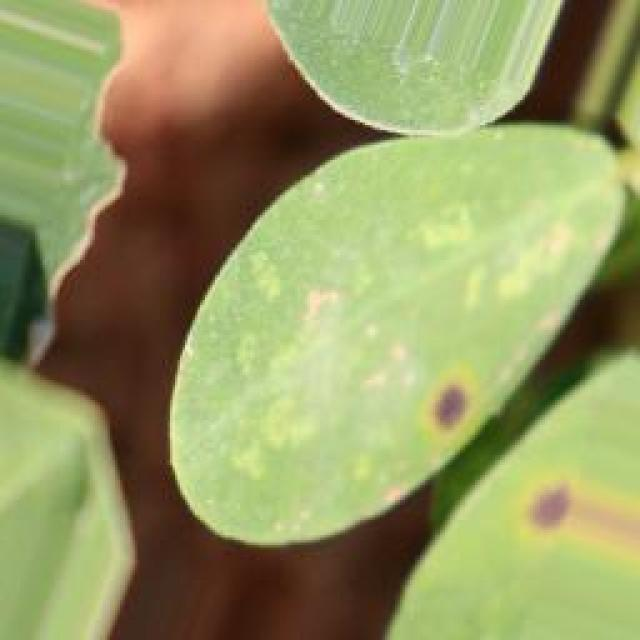Sigatoka: (382, 359, 487, 464), (514, 458, 588, 538), (506, 229, 559, 302), (315, 266, 370, 326)
